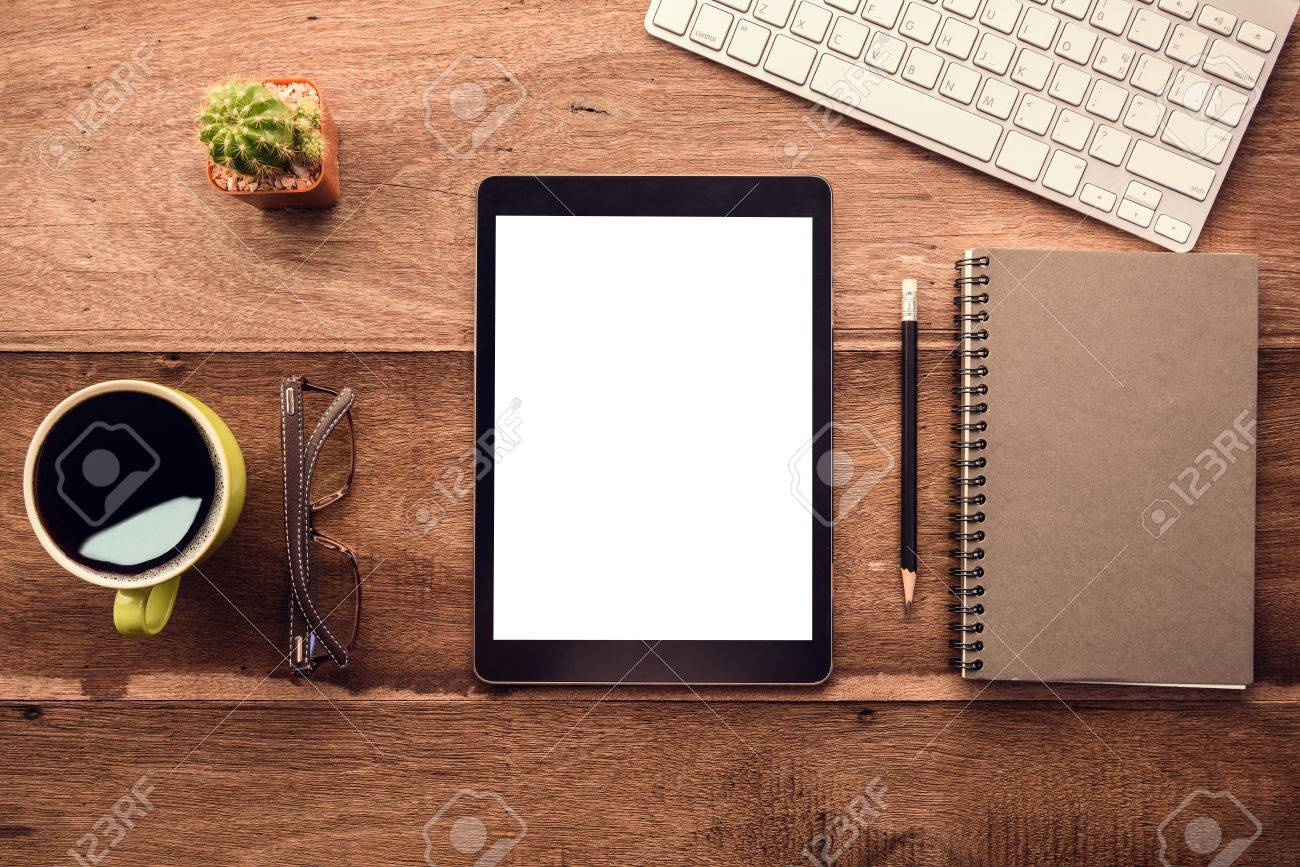Cell Phone: (471, 173, 834, 682)
